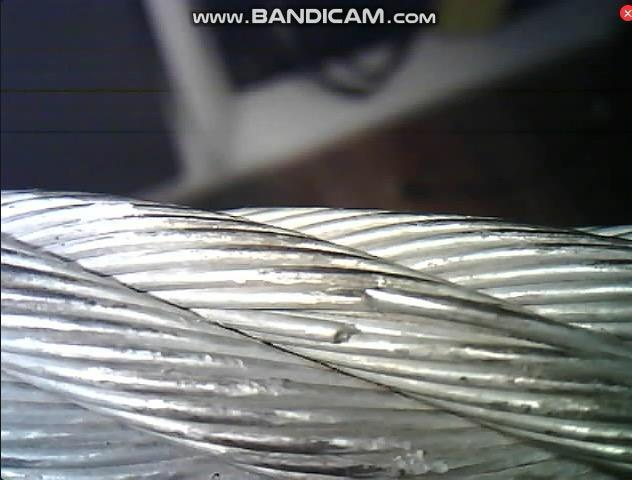break: (319, 280, 391, 361)
